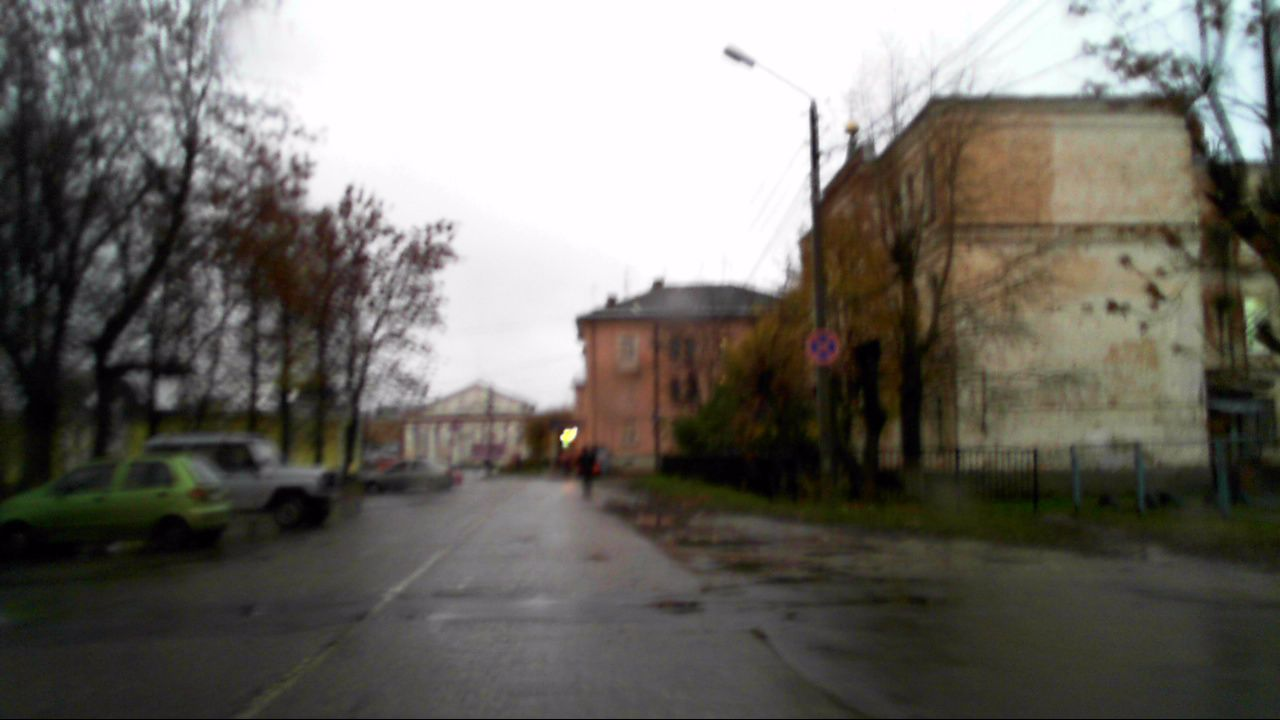No Parking: (805, 328, 841, 366)
